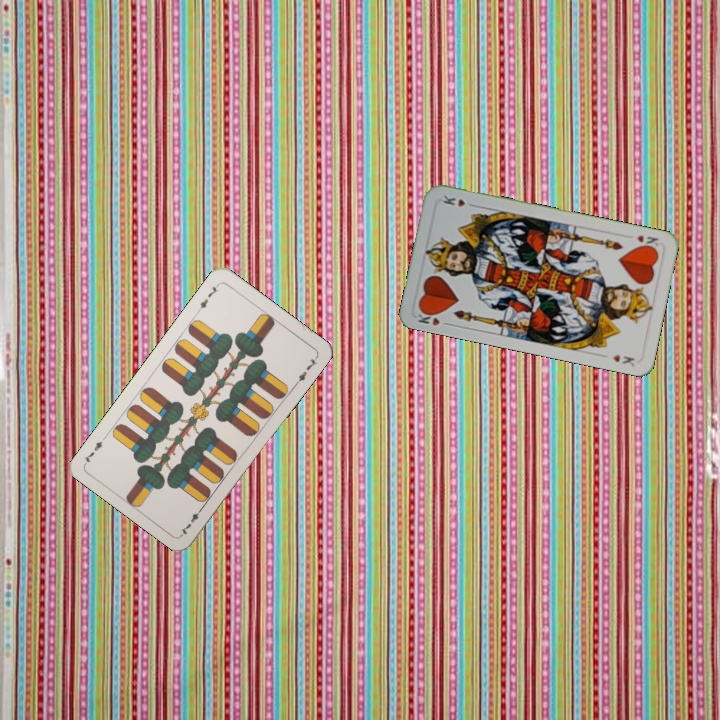E7: (176, 503, 206, 538), (193, 279, 222, 315)
HK: (413, 306, 453, 328), (633, 231, 661, 252)
